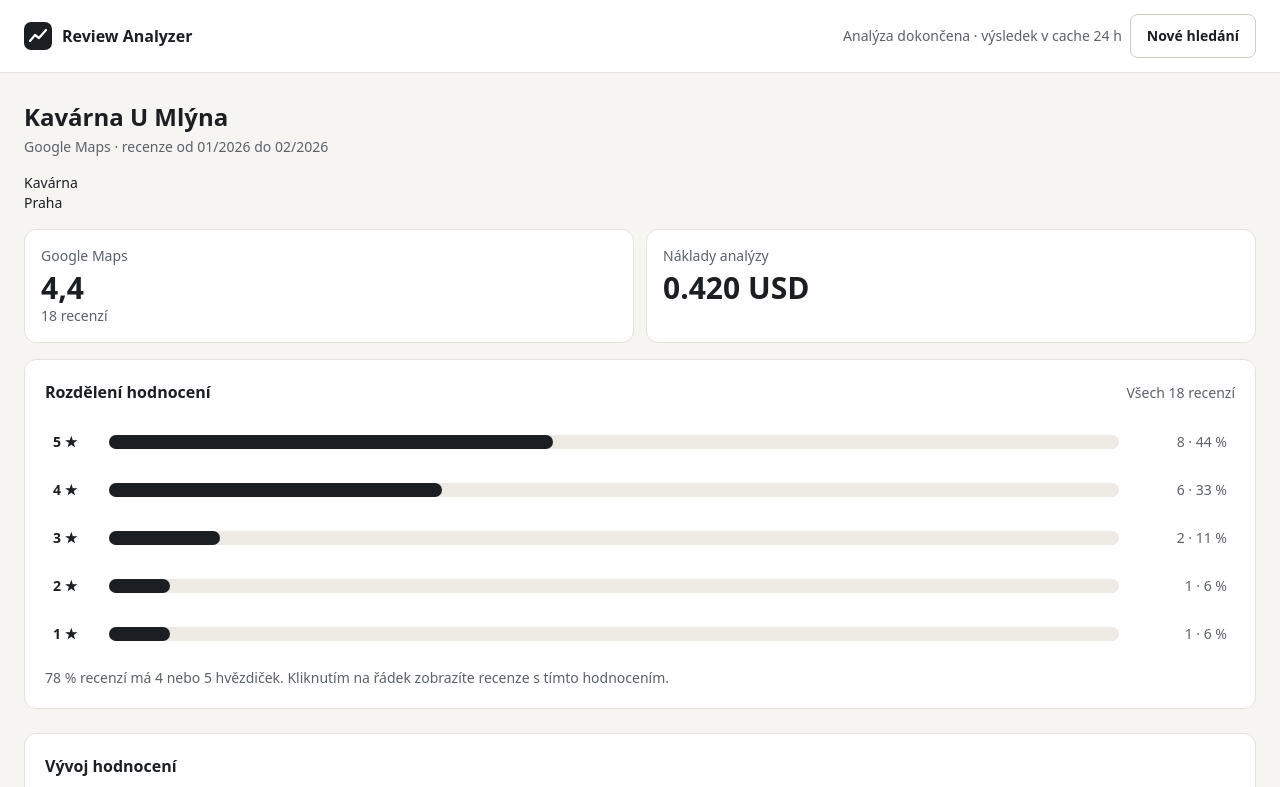
lists the Reviews with a rating in the side panel when its row is clicked
Click the button "1 ★ 1 · 6 %" at (640, 634), box [45, 612, 1235, 656]
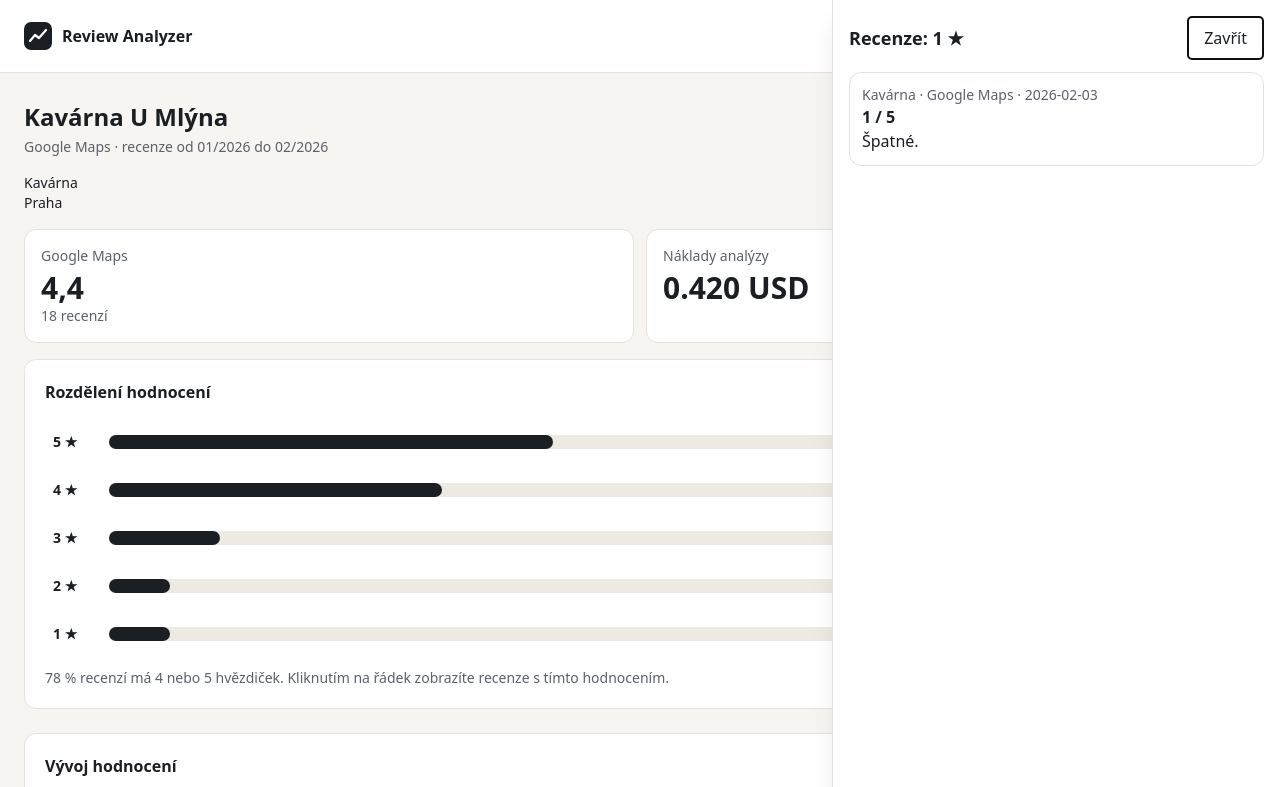
Expected: the text "Špatné." is shown, [862, 130, 919, 152]
